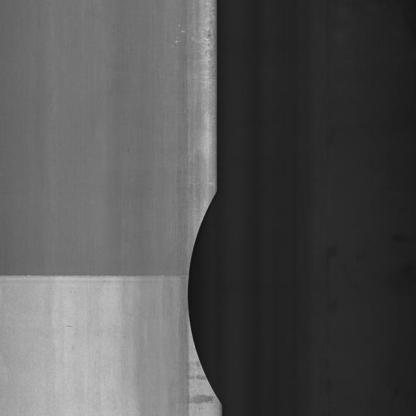crescent_gap: (178, 181, 234, 416)
welding_line: (4, 258, 212, 293)
